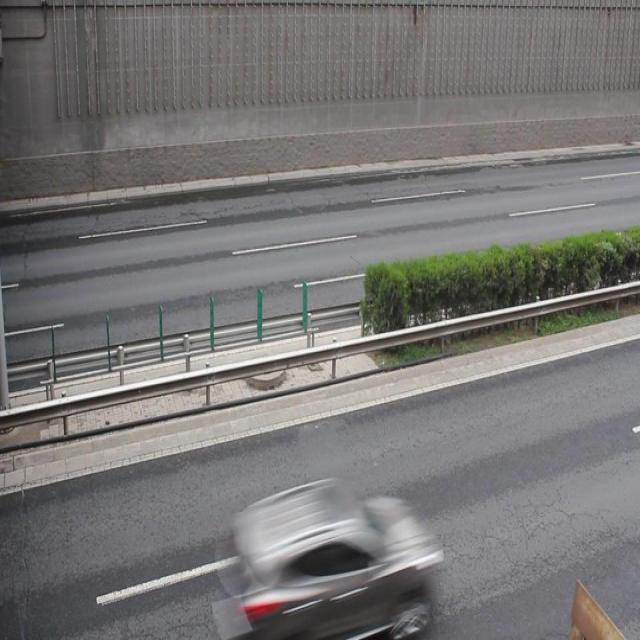car: (225, 475, 436, 640)
